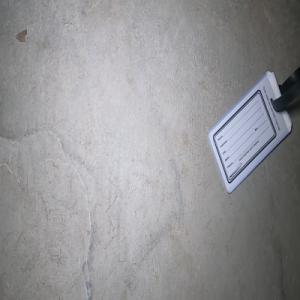LuggageTag: (206, 67, 300, 197)
